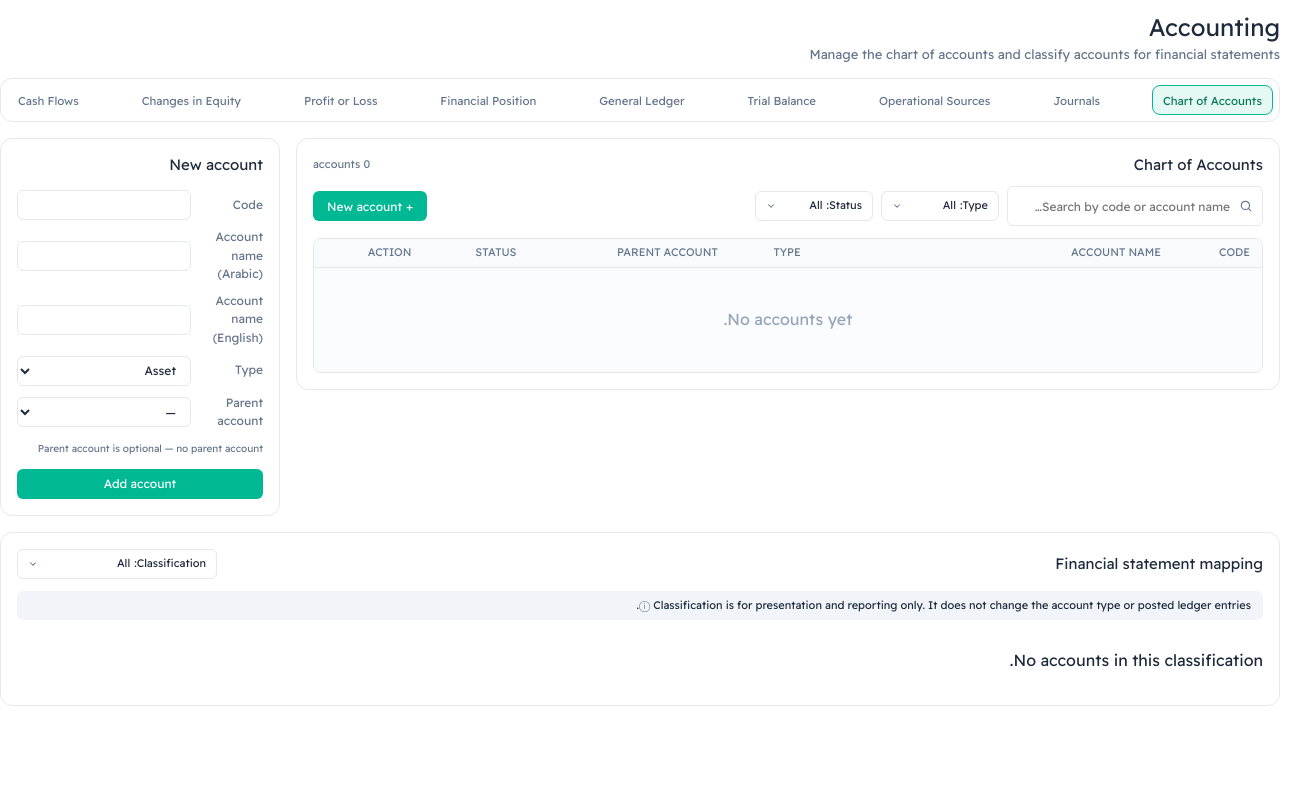
Test: Accounting workspace › resets and reloads the account form after a successful account creation
The image size is (1292, 812).
Type "1000" into the field labelled "Code". click: (104,205)
box: [17, 190, 191, 220]
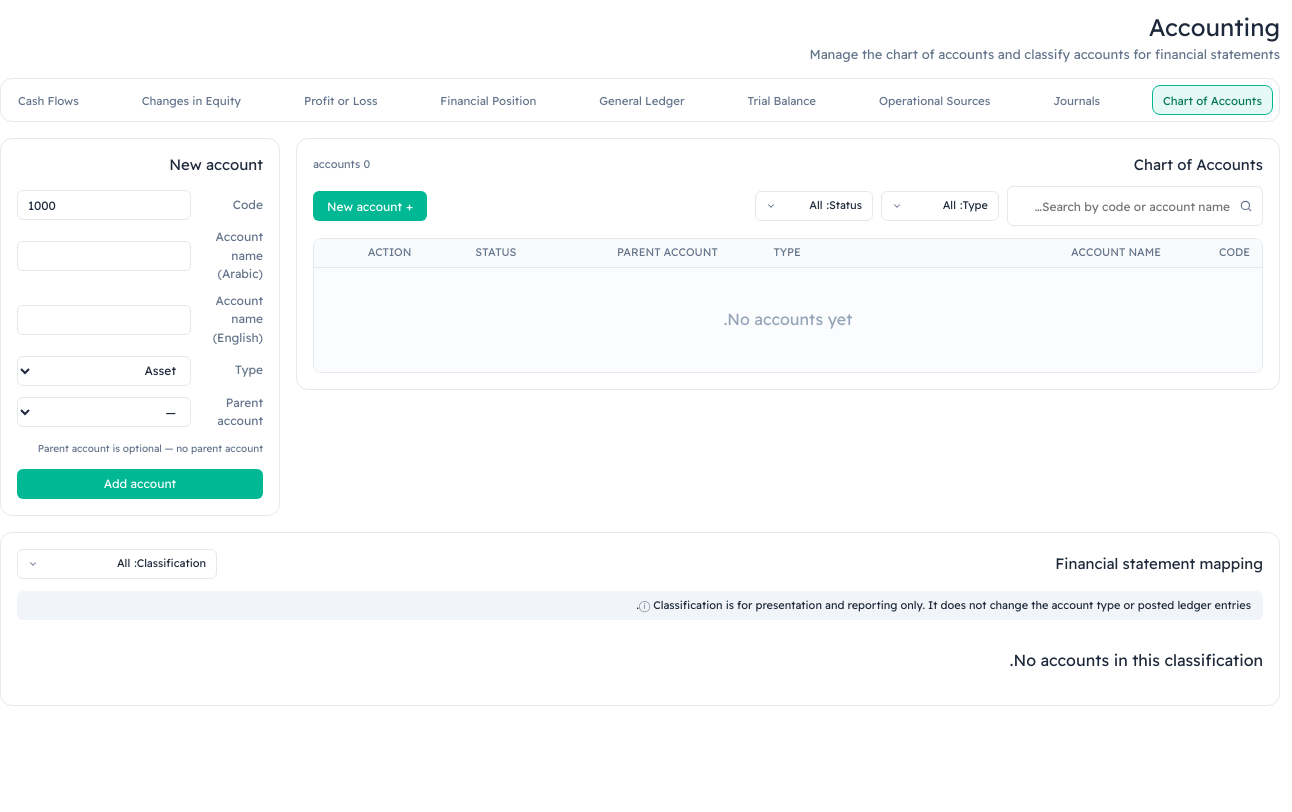
Type "Cash and banks" into the field labelled "Account name (English)". click: (104,320)
box: [17, 305, 191, 335]
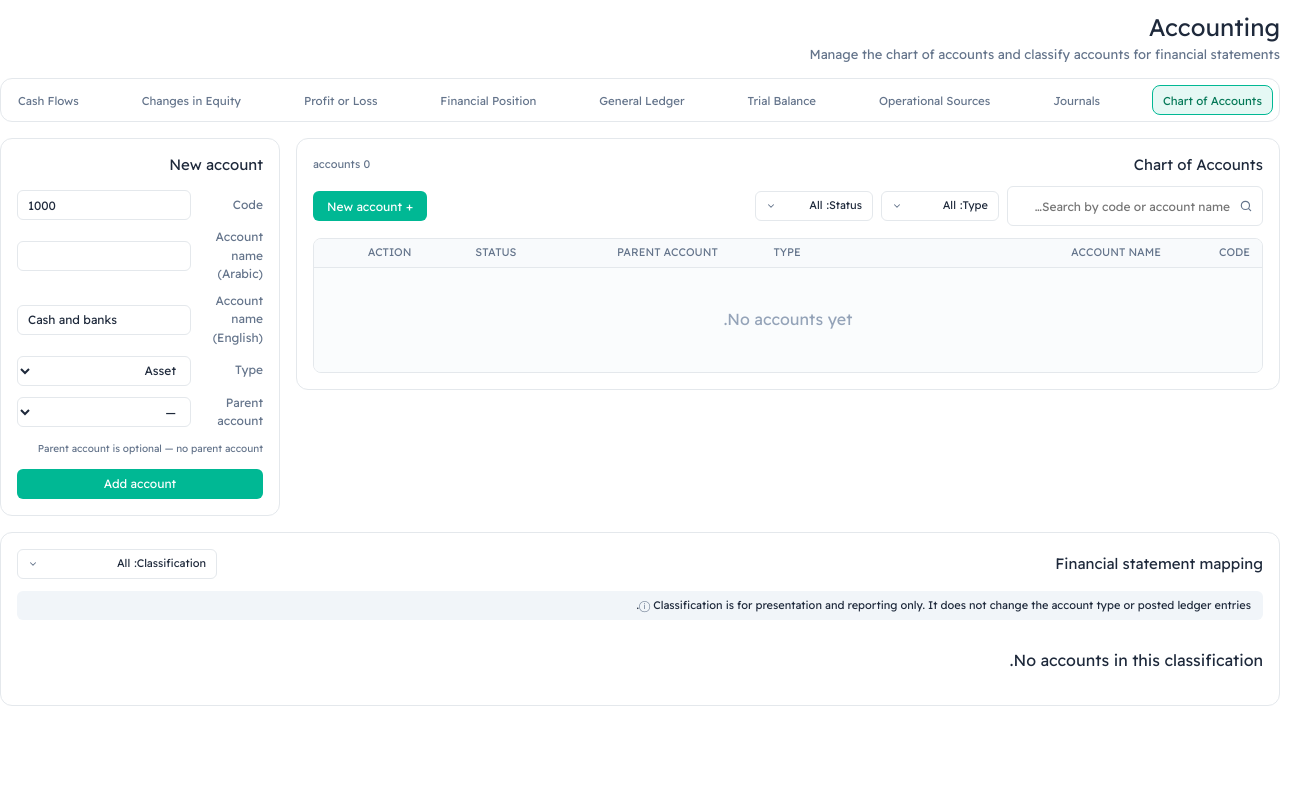
Click the button "Add account". click: (140,484)
box: [17, 469, 263, 499]
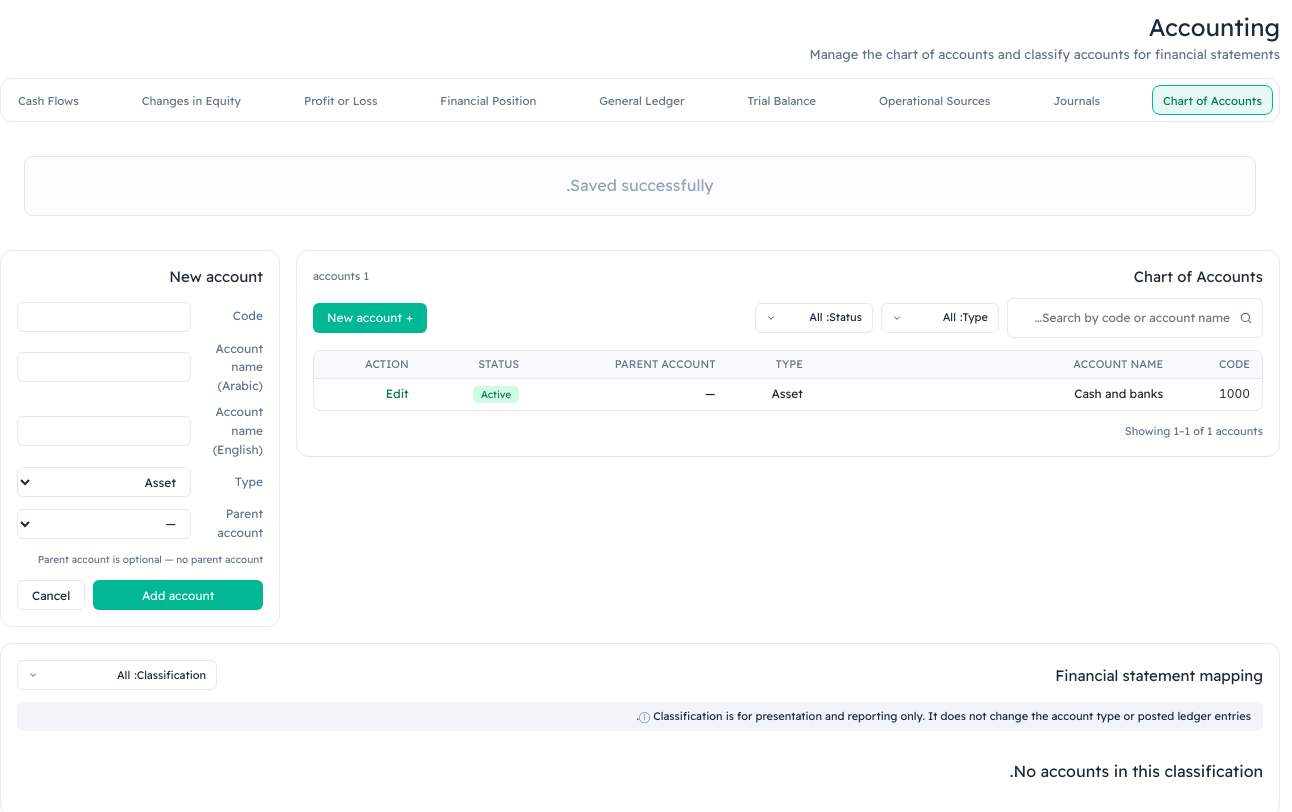
Check: the text "Cash and banks" is shown, box [815, 379, 1175, 410]
Check: the field labelled "Code" is empty, box [17, 302, 191, 332]
Check: the field labelled "Account name (English)" is empty, box [17, 416, 191, 446]
